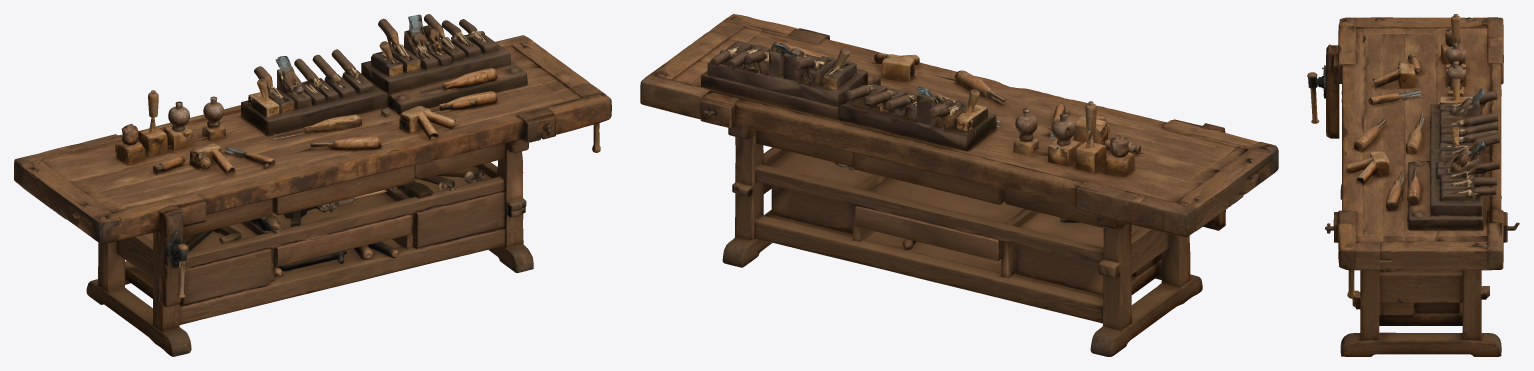
Rendered from P07_Woodworking_Tools-v1.glb.
3 views of the same model, side by side, from view 1: azimuth 30°, elevation 25°; view 2: azimuth 150°, elevation 25°; view 3: azimuth 270°, elevation 25° (orthographic). The views are drawn at different scales.
Parts seen in each view (by area): view 1: tripo_node_fc15af60-d1e6-4404-8cb3-87b9a9c76dbc; view 2: tripo_node_fc15af60-d1e6-4404-8cb3-87b9a9c76dbc; view 3: tripo_node_fc15af60-d1e6-4404-8cb3-87b9a9c76dbc.
Boxes of the visible parts, bbox=[...] form: tripo_node_fc15af60-d1e6-4404-8cb3-87b9a9c76dbc: bbox=[14, 14, 611, 356]; tripo_node_fc15af60-d1e6-4404-8cb3-87b9a9c76dbc: bbox=[640, 14, 1278, 356]; tripo_node_fc15af60-d1e6-4404-8cb3-87b9a9c76dbc: bbox=[1307, 14, 1519, 356].
Bounding box in the file's own units: 0.9797 × 0.3846 × 0.3772.
1 material, 1 textured.
